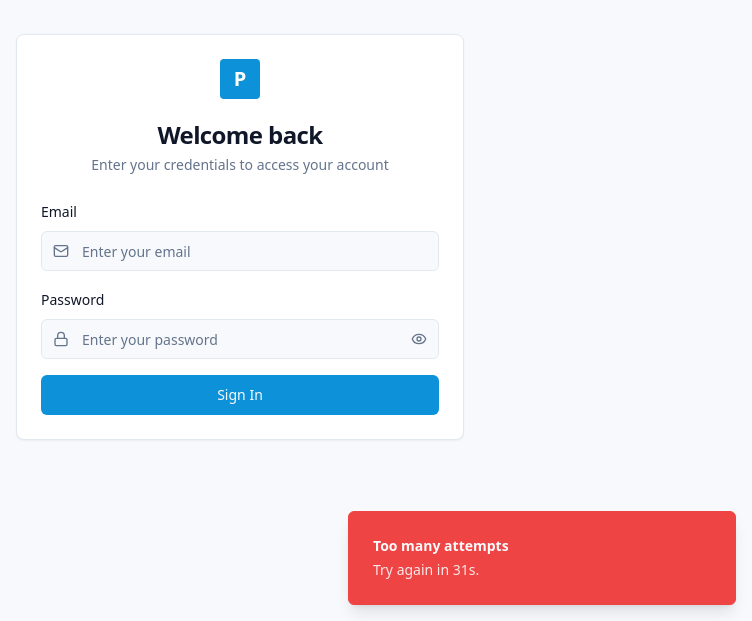
SignIn UI safeguards › shows generic error copy on failure
The image size is (752, 621).
In the field with placeholder "Enter your email": x=240, y=251 left=41, top=231, right=439, bottom=271, type "x@y.com"
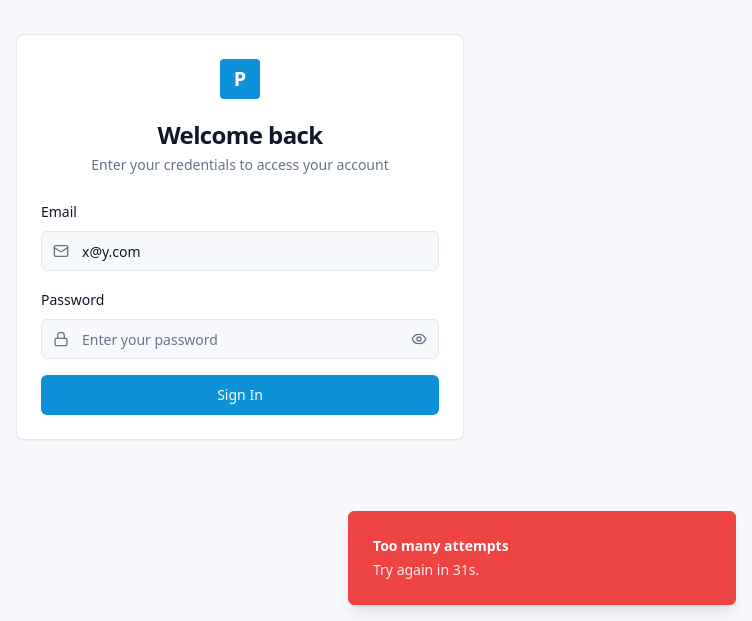
In the password field with placeholder "Enter your password": x=240, y=339 left=41, top=319, right=439, bottom=359, type "p"
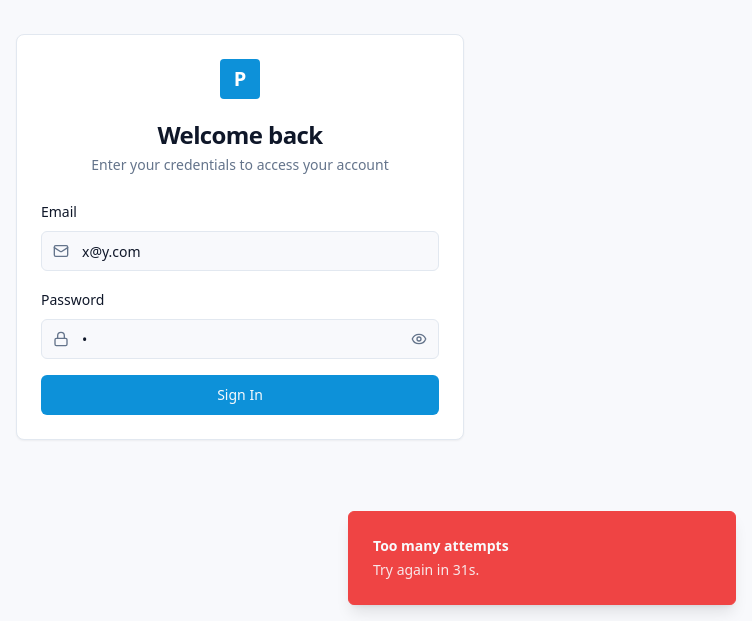
Click the button "Sign In": x=240, y=395 left=41, top=375, right=439, bottom=415
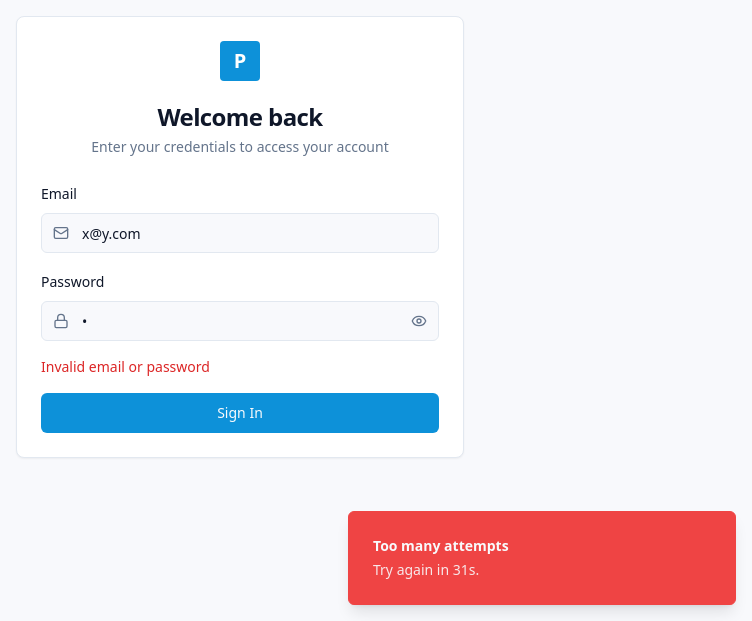
Check: the message reads "Invalid email or password", box left=41, top=357, right=210, bottom=376
